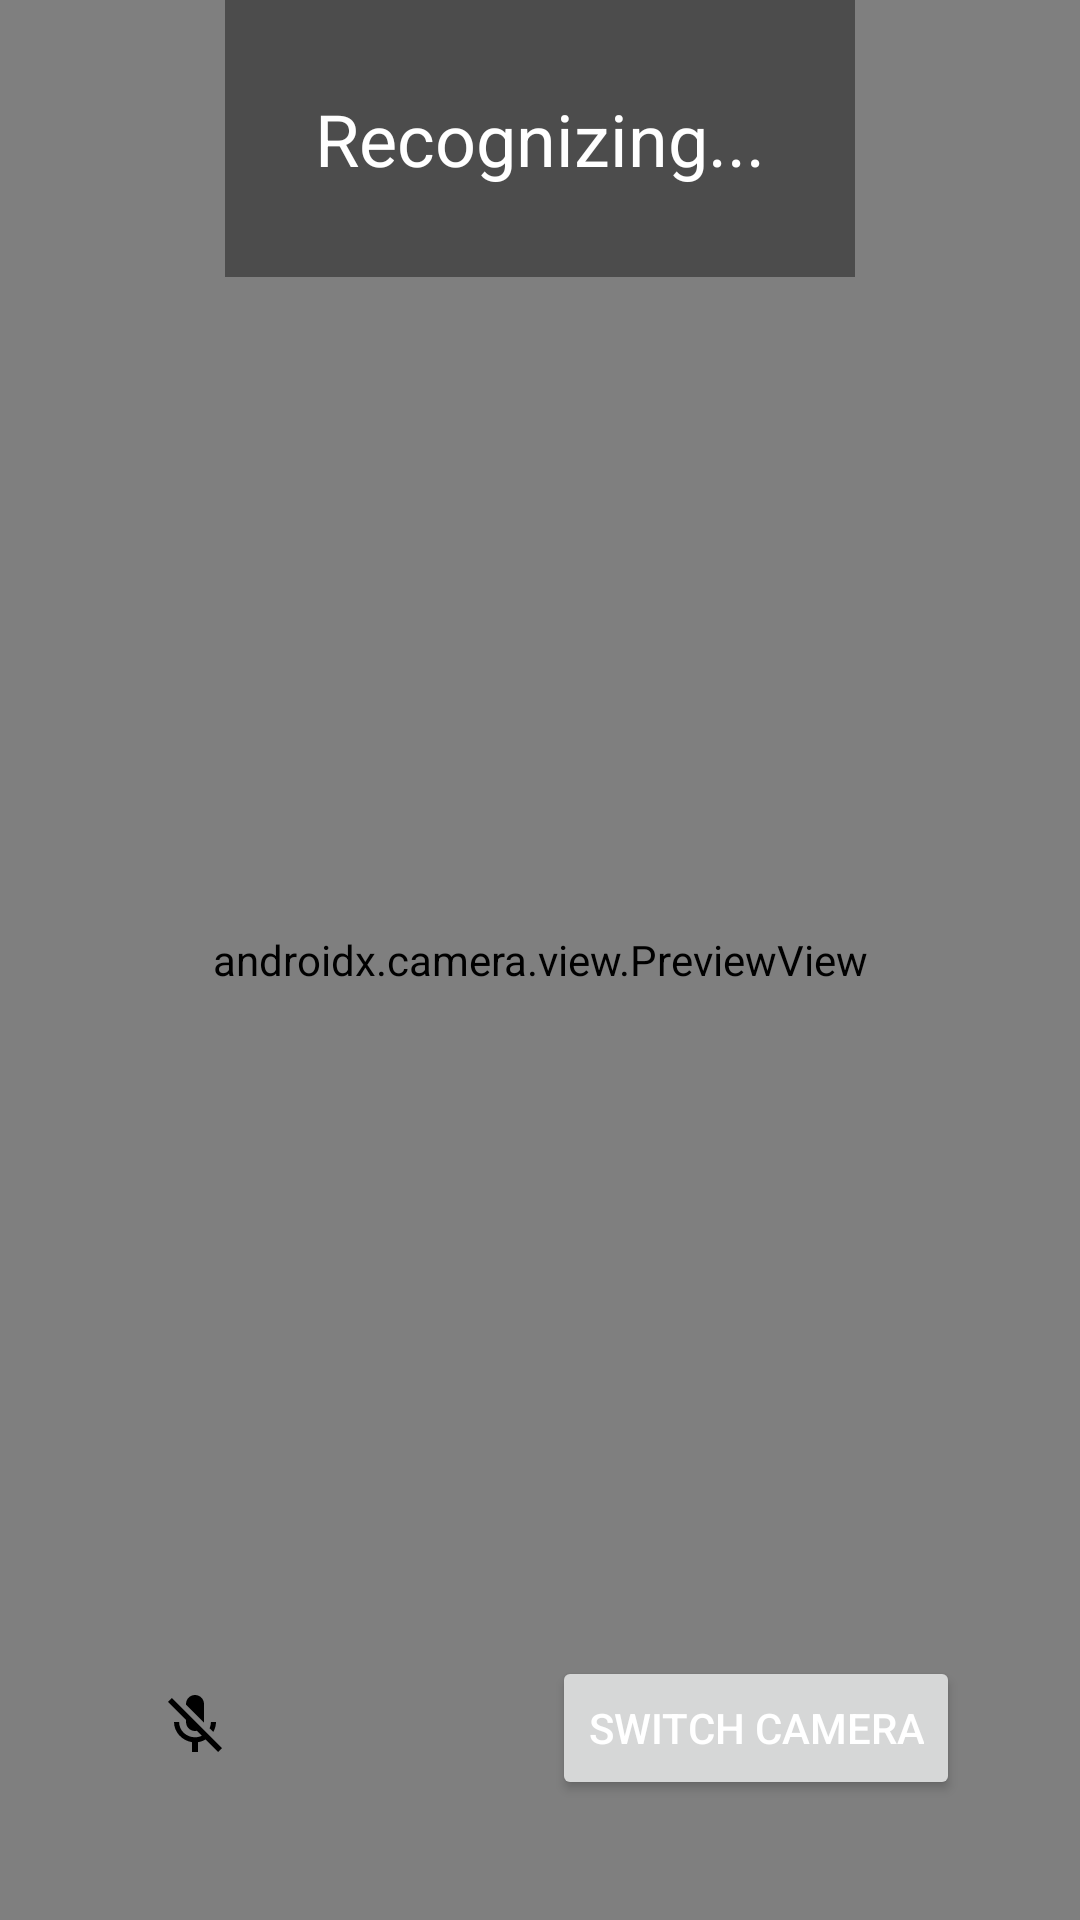

Point at icon controls on the screen. Image size 1080x1920, points as (x,y).
Mic Button: (195,1723)
